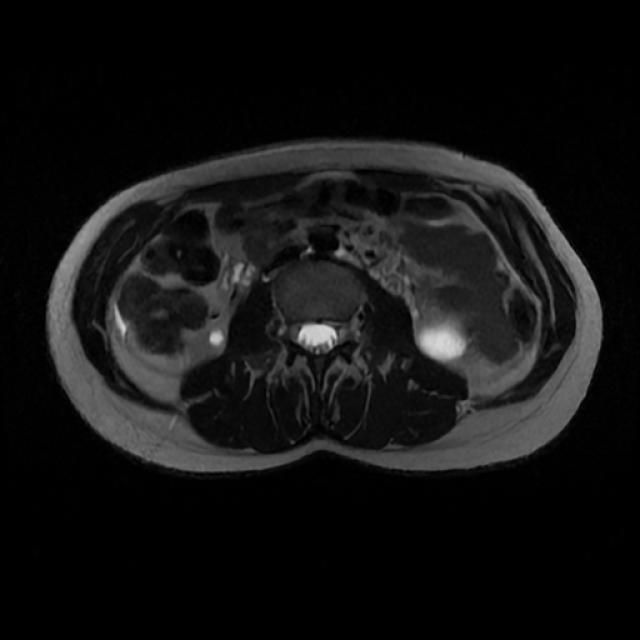sag: (183, 325, 227, 367)
sol: (413, 310, 477, 365)
